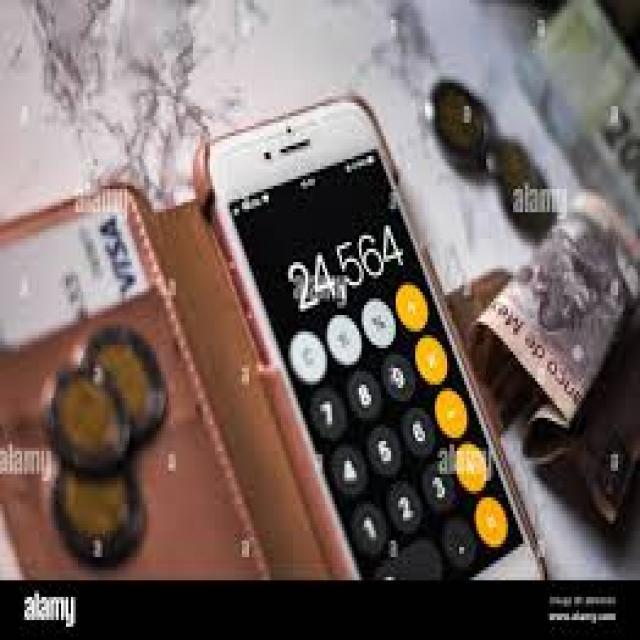Calculator: (191, 90, 551, 580)
